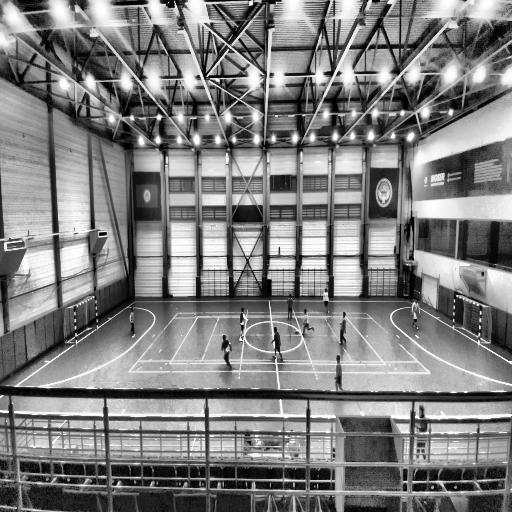ball: (295, 328, 298, 335)
player: (271, 326, 284, 362), (220, 334, 232, 372), (301, 307, 315, 339), (333, 354, 345, 391), (338, 310, 348, 347), (238, 306, 248, 342), (411, 296, 421, 330), (322, 286, 330, 316), (286, 292, 294, 320), (130, 305, 136, 338)
